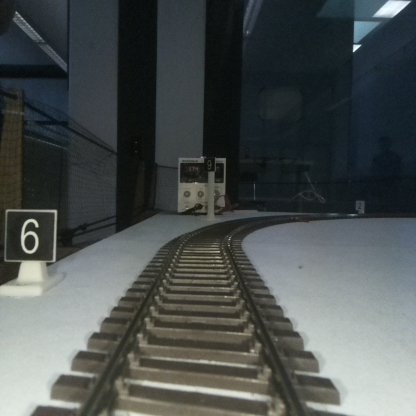black-info-9: (204, 156, 215, 219)
black-stop-6: (6, 210, 55, 294)
